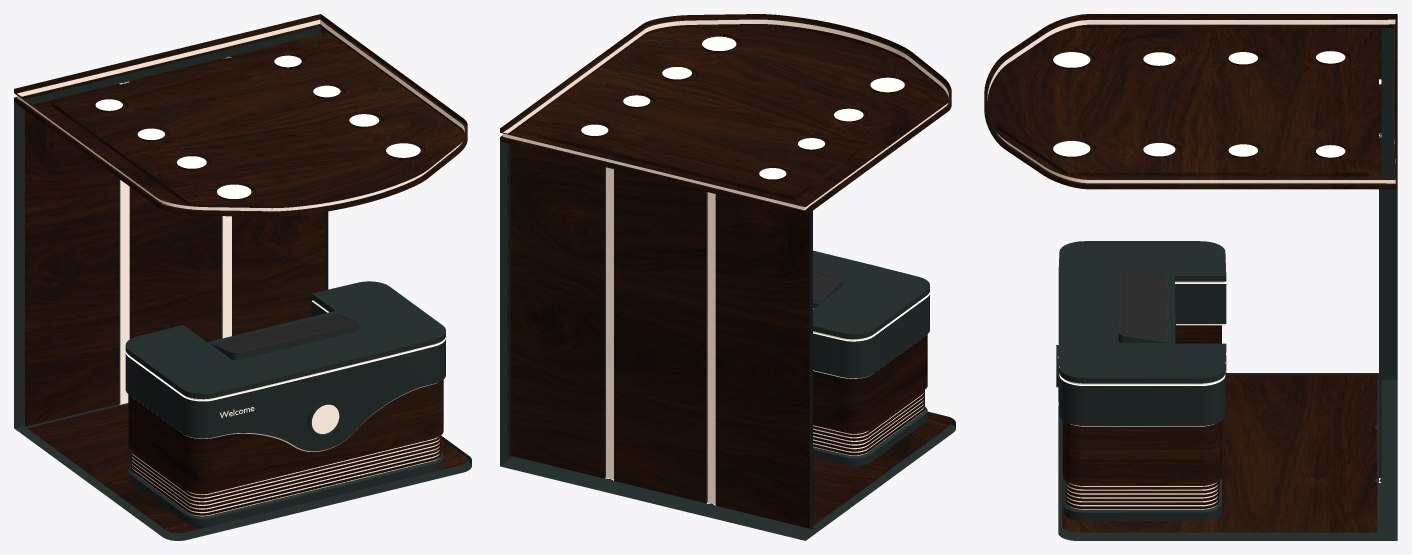
The model's file is reception_desk.glb.
The picture shows the model from 3 angles, left to right: view 1: azimuth 30°, elevation 25°; view 2: azimuth 150°, elevation 25°; view 3: azimuth 270°, elevation 25°; orthographic projection. The views are drawn at different scales.
Visible parts, largest first — view 1: Plane.001_2, Cube.002_0, Cylinder_4; view 2: Plane.001_2, Cube.002_0; view 3: Plane.001_2, Cube.002_0.
Boxes of the visible parts, bbox=[...] form: Plane.001_2: bbox=[14, 14, 471, 540]; Cube.002_0: bbox=[125, 281, 445, 526]; Cylinder_4: bbox=[308, 400, 342, 437]; Plane.001_2: bbox=[500, 14, 955, 540]; Cube.002_0: bbox=[813, 250, 929, 466]; Plane.001_2: bbox=[984, 14, 1397, 540]; Cube.002_0: bbox=[1058, 241, 1226, 520].
Size of the model in its own units: 4.8 by 5.08 by 5.2.
5 materials, 1 textured.
